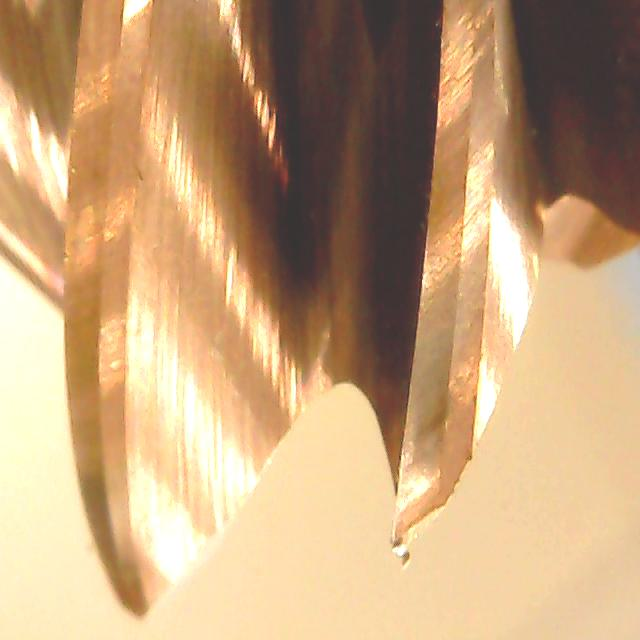Tool-wear-class-0: (377, 196, 504, 553)
